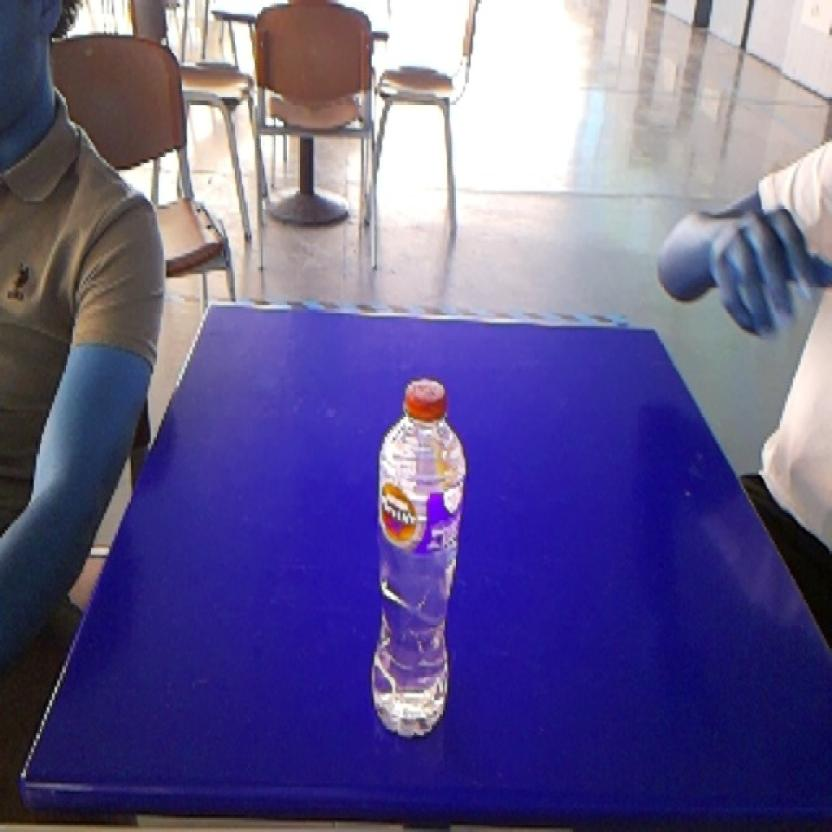good: (359, 367, 471, 753)
